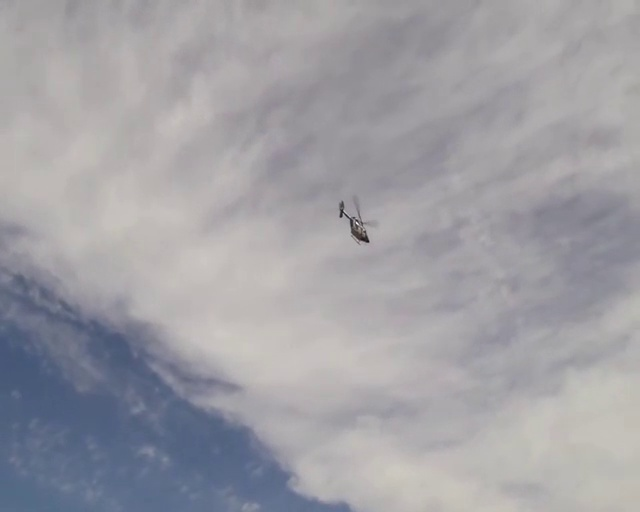HELICOPTER: (337, 194, 377, 245)
